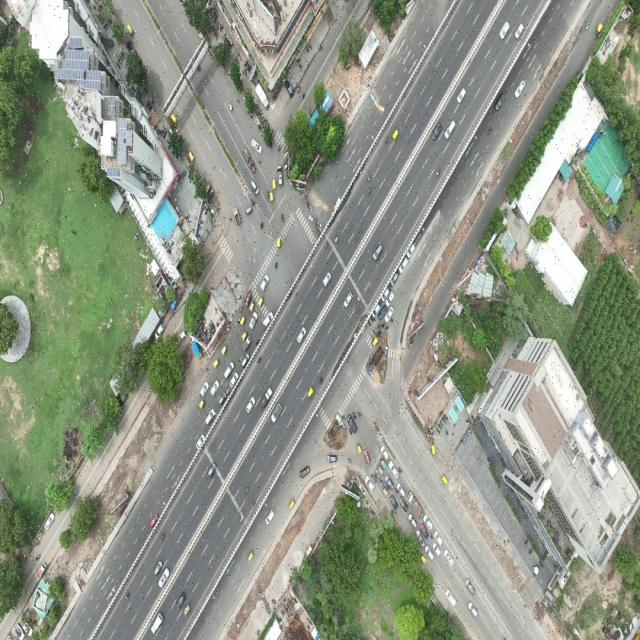3W: (595, 23, 603, 36), (185, 604, 191, 616), (307, 387, 313, 398), (199, 398, 205, 409), (189, 151, 195, 162), (357, 443, 362, 455), (393, 130, 399, 140), (249, 552, 255, 562), (214, 358, 220, 368), (222, 345, 228, 355), (240, 315, 246, 325), (258, 296, 264, 306), (209, 188, 214, 200), (127, 24, 133, 34), (382, 487, 388, 496), (372, 337, 378, 346), (242, 331, 248, 340), (171, 115, 177, 124), (442, 475, 447, 485), (421, 554, 426, 564), (378, 466, 383, 476), (381, 459, 386, 469), (290, 500, 295, 510), (392, 511, 397, 520), (205, 184, 210, 193), (432, 445, 436, 456), (272, 179, 276, 190), (250, 301, 254, 311), (277, 236, 280, 248), (270, 192, 273, 201)
Cars: (151, 613, 163, 633), (158, 568, 170, 587), (271, 404, 282, 424), (346, 414, 357, 433), (44, 512, 55, 530), (514, 80, 525, 98), (445, 589, 456, 607), (445, 121, 455, 139), (389, 461, 399, 479), (500, 22, 510, 39), (495, 95, 505, 112), (444, 549, 454, 566), (416, 530, 425, 548), (205, 409, 215, 425), (224, 362, 234, 378), (373, 244, 383, 260), (265, 509, 275, 525), (468, 602, 478, 618), (465, 579, 475, 595), (365, 476, 375, 492), (15, 623, 24, 640), (260, 275, 269, 292), (432, 123, 441, 140), (423, 515, 433, 530), (176, 593, 185, 609), (196, 434, 205, 450), (210, 380, 219, 396), (246, 397, 255, 413), (297, 327, 306, 343), (344, 292, 353, 308), (399, 257, 408, 273), (385, 306, 394, 322), (378, 305, 387, 321), (425, 545, 434, 561), (420, 523, 429, 539), (23, 622, 33, 636), (249, 312, 257, 329), (200, 381, 209, 396), (155, 323, 164, 338), (457, 88, 466, 103), (515, 24, 524, 39), (407, 243, 416, 258), (386, 291, 395, 306), (408, 514, 417, 529), (385, 475, 394, 490), (277, 165, 283, 187), (300, 466, 310, 479), (252, 140, 262, 153), (154, 561, 163, 575), (230, 373, 239, 387), (322, 273, 331, 287), (284, 81, 293, 95), (399, 498, 408, 512), (390, 495, 398, 510), (251, 180, 259, 195), (245, 290, 252, 307), (151, 515, 160, 528), (208, 463, 217, 476), (241, 354, 250, 367), (264, 312, 273, 325), (371, 304, 380, 317), (219, 391, 227, 405), (390, 272, 398, 286), (381, 287, 389, 301), (434, 531, 442, 545), (381, 446, 389, 460), (397, 483, 405, 496), (433, 542, 440, 556), (327, 454, 337, 463), (364, 449, 370, 464)
LCV: (260, 387, 273, 409), (35, 561, 47, 580), (234, 207, 241, 225), (242, 336, 251, 350)
M2W: (585, 22, 591, 31), (160, 533, 164, 543), (356, 296, 360, 305), (35, 554, 40, 560), (126, 593, 130, 600), (240, 516, 244, 523), (252, 500, 256, 507), (335, 236, 339, 243), (488, 128, 492, 135), (436, 169, 440, 176), (352, 412, 356, 419), (374, 466, 378, 473), (281, 213, 284, 222), (266, 190, 269, 199), (349, 427, 352, 436), (430, 531, 433, 540), (347, 458, 352, 463), (275, 261, 278, 269), (324, 243, 328, 249), (237, 318, 240, 326), (246, 487, 249, 495), (319, 377, 323, 383), (368, 175, 372, 181), (385, 137, 388, 145), (378, 473, 382, 479), (370, 473, 374, 479), (278, 144, 281, 151), (298, 85, 301, 92), (302, 93, 305, 100), (390, 318, 393, 325), (377, 330, 380, 337), (398, 467, 401, 474), (395, 488, 398, 495), (375, 480, 378, 487), (383, 480, 386, 487), (358, 412, 362, 417), (258, 356, 261, 362), (382, 323, 385, 329), (378, 324, 381, 330), (342, 415, 345, 421), (379, 479, 382, 485), (387, 485, 390, 491), (261, 221, 263, 229), (385, 327, 389, 331), (240, 307, 243, 312), (374, 474, 377, 479), (368, 188, 370, 195), (256, 340, 259, 344), (379, 333, 382, 337), (503, 636, 506, 640)
MAV: (255, 83, 269, 110)
Truck: (407, 491, 424, 519)
